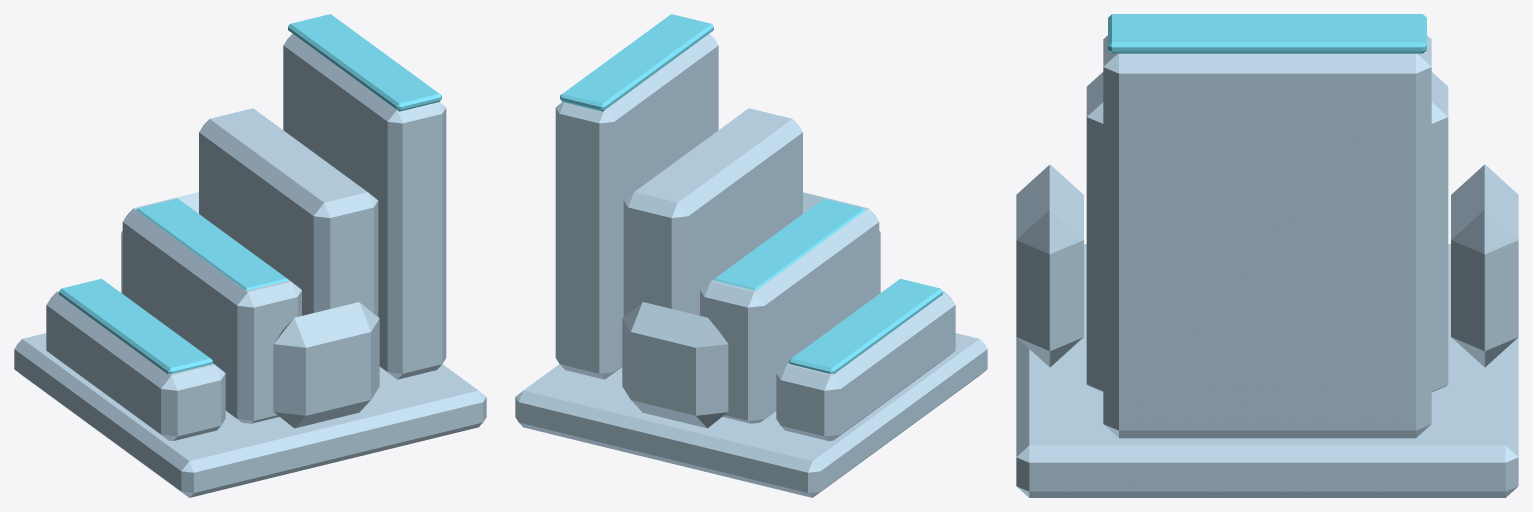
File: R4X_ModuleAmplifier_LOD1.glb
3 renders of one model, left to right at view 1: azimuth 30°, elevation 25°; view 2: azimuth 150°, elevation 25°; view 3: azimuth 270°, elevation 25°, orthographic. The views are drawn at different scales.
Parts seen in each view (by area): view 1: R4X_ModuleAmplifier_LOD1; view 2: R4X_ModuleAmplifier_LOD1; view 3: R4X_ModuleAmplifier_LOD1.
Boxes of the visible parts, bbox=[...] form: R4X_ModuleAmplifier_LOD1: bbox=[14, 14, 486, 497]; R4X_ModuleAmplifier_LOD1: bbox=[515, 14, 987, 497]; R4X_ModuleAmplifier_LOD1: bbox=[1016, 14, 1518, 497].
Size of the model in its own units: 0.52 by 0.5126 by 0.52.
